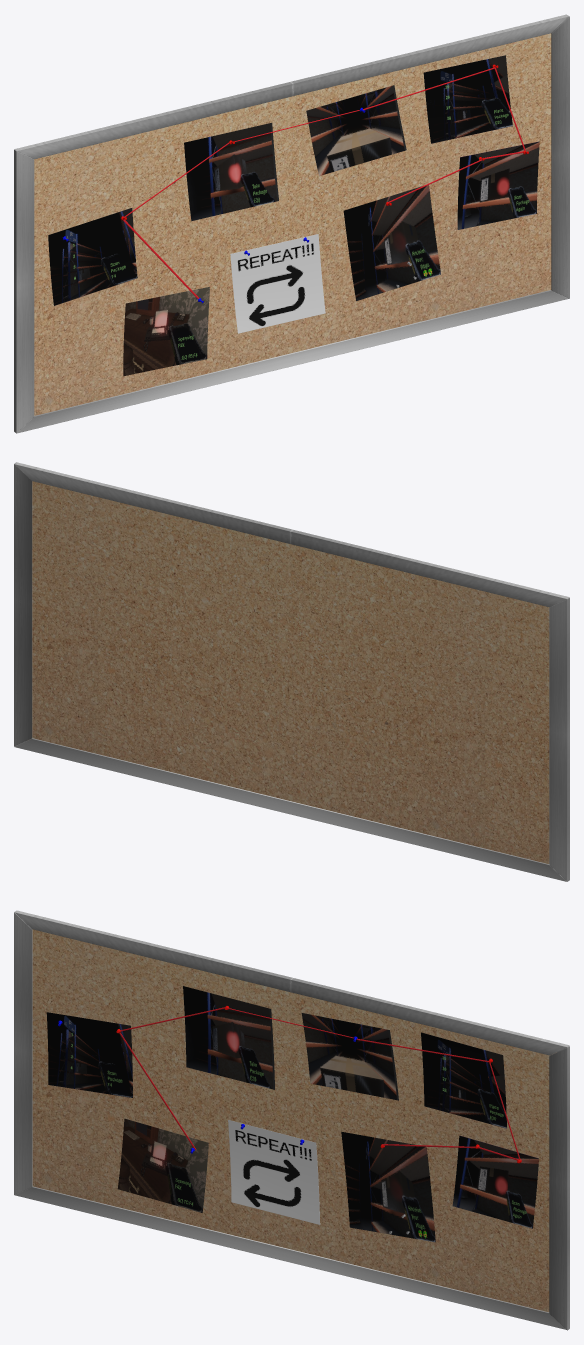
File: pinup board.fbx
3 views of the same model, one above another, from view 1: azimuth 30°, elevation 25°; view 2: azimuth 150°, elevation 25°; view 3: azimuth 330°, elevation 25° (orthographic).
Visible parts, largest first — view 1: pinboard_set_01, pinboard_set_29.003, pinboard_set_29.004, pinboard_set_29, pinboard_set_06, pinboard_set_06.001, pinboard_set_29.001, pinboard_set_29.002, pinboard_set_06.002; view 2: pinboard_set_01; view 3: pinboard_set_01, pinboard_set_29.003, pinboard_set_29.004, pinboard_set_29, pinboard_set_06, pinboard_set_06.001, pinboard_set_29.001, pinboard_set_29.002, pinboard_set_06.002.
Boxes of the visible parts, x1,y1,x2,y2 form: pinboard_set_01: [14, 14, 569, 433]; pinboard_set_29.003: [343, 185, 440, 300]; pinboard_set_29.004: [230, 234, 325, 333]; pinboard_set_29: [184, 123, 278, 221]; pinboard_set_06: [123, 287, 209, 376]; pinboard_set_06.001: [48, 208, 137, 305]; pinboard_set_29.001: [306, 85, 406, 175]; pinboard_set_29.002: [423, 55, 512, 143]; pinboard_set_06.002: [457, 141, 539, 229]; pinboard_set_01: [14, 462, 569, 881]; pinboard_set_01: [14, 910, 569, 1330]; pinboard_set_29.003: [341, 1131, 435, 1242]; pinboard_set_29.004: [228, 1120, 320, 1224]; pinboard_set_29: [183, 986, 274, 1089]; pinboard_set_06: [117, 1118, 208, 1212]; pinboard_set_06.001: [46, 1012, 132, 1097]; pinboard_set_29.001: [301, 1013, 398, 1100]; pinboard_set_29.002: [421, 1032, 506, 1128]; pinboard_set_06.002: [452, 1135, 538, 1228].
Size of the model in its own units: 2.75 by 1.34 by 0.0624.
13 materials, 10 textured.
